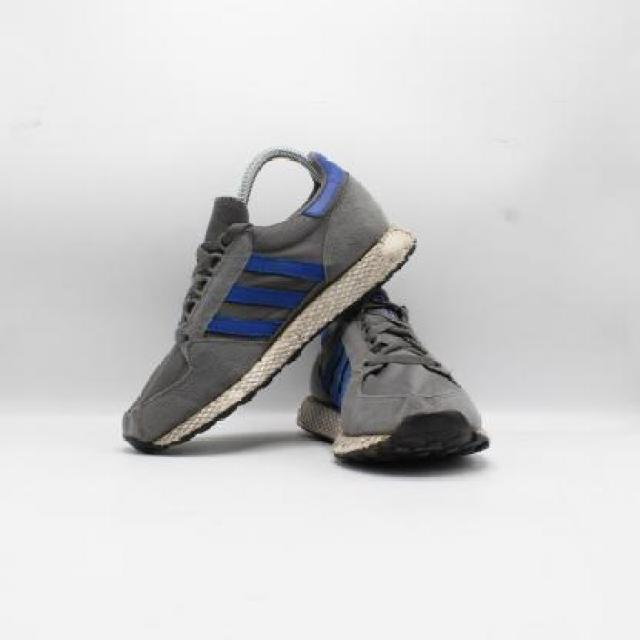Adidas: (194, 248, 338, 354)
